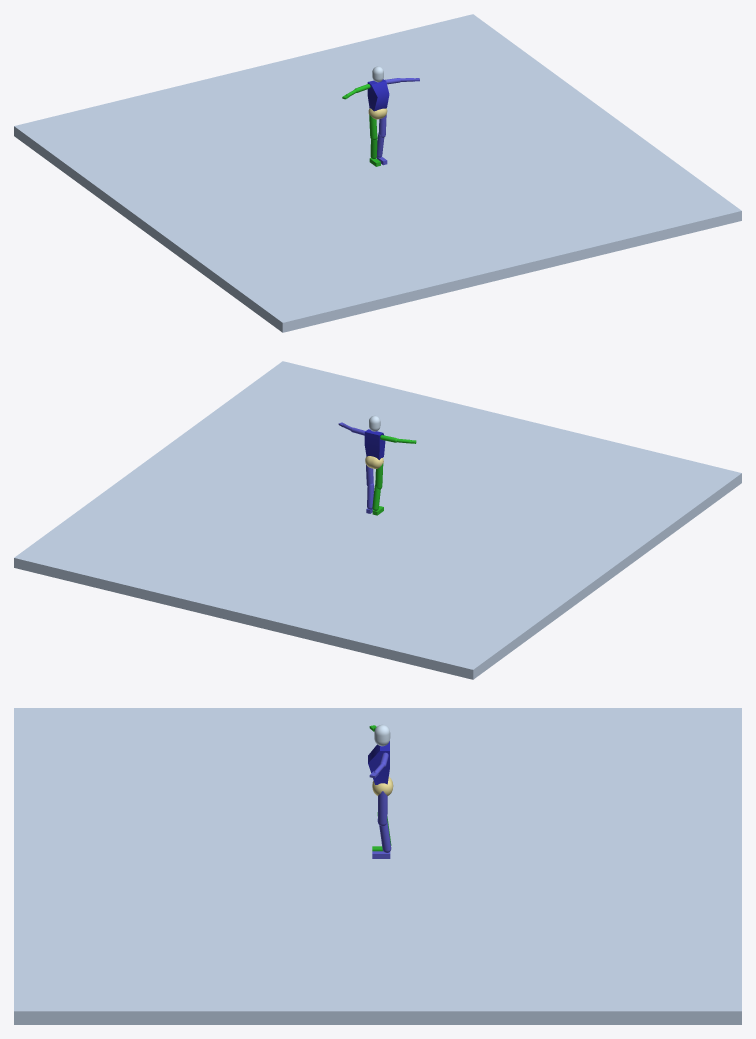
File: prop_penetration_rig.glb
3 views of the same model, one above another, from view 1: azimuth 30°, elevation 25°; view 2: azimuth 150°, elevation 25°; view 3: azimuth 270°, elevation 25° (orthographic). The views are drawn at different scales.
Parts seen in each view (by area): view 1: Box01, Ragdoll_HavokBipedRig Spine01; view 2: Box01; view 3: Box01, Ragdoll_HavokBipedRig Spine01.
Boxes of the visible parts, box(x1,y1,x2,y2) form: Box01: box(14, 14, 741, 332); Ragdoll_HavokBipedRig Spine01: box(367, 79, 389, 111); Box01: box(14, 361, 741, 679); Box01: box(14, 708, 741, 1024); Ragdoll_HavokBipedRig Spine01: box(368, 741, 389, 784).
Size of the model in its own units: 8.35 by 1.91 by 8.46.
